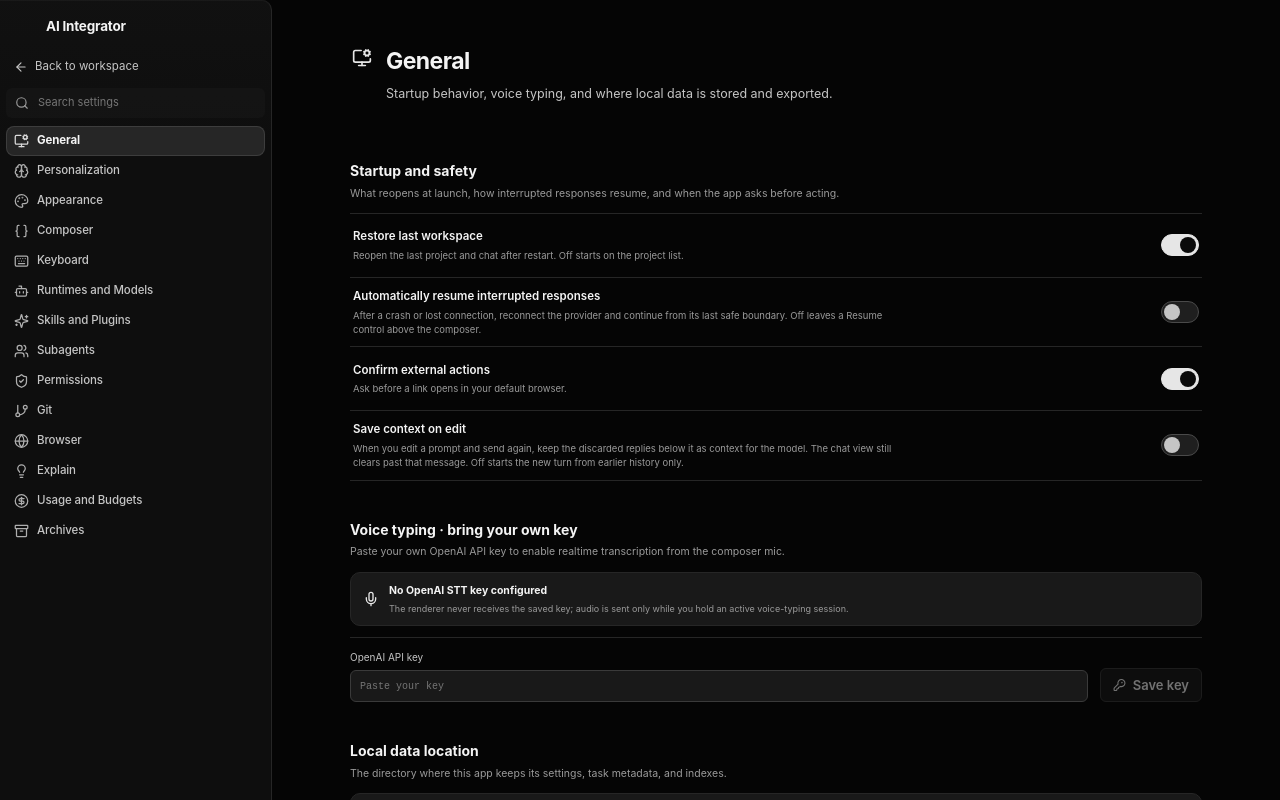
Test: Git settings › puts what AI Integrator writes into a commit above who drafts it
Click the button "Git". click: (136, 411)
box: x1=6 y1=396 x2=265 y2=426
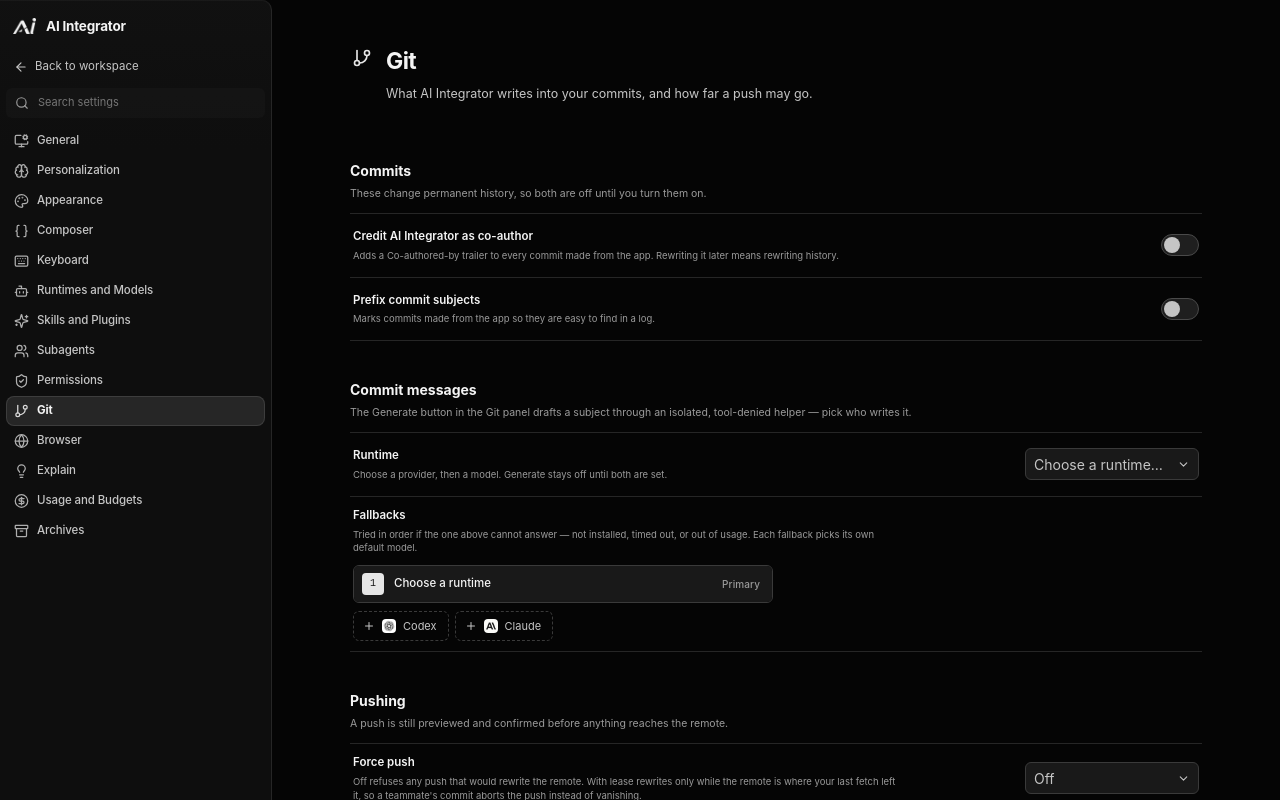
Expected: the heading "Git" is shown, x1=386 y1=47 x2=416 y2=75
